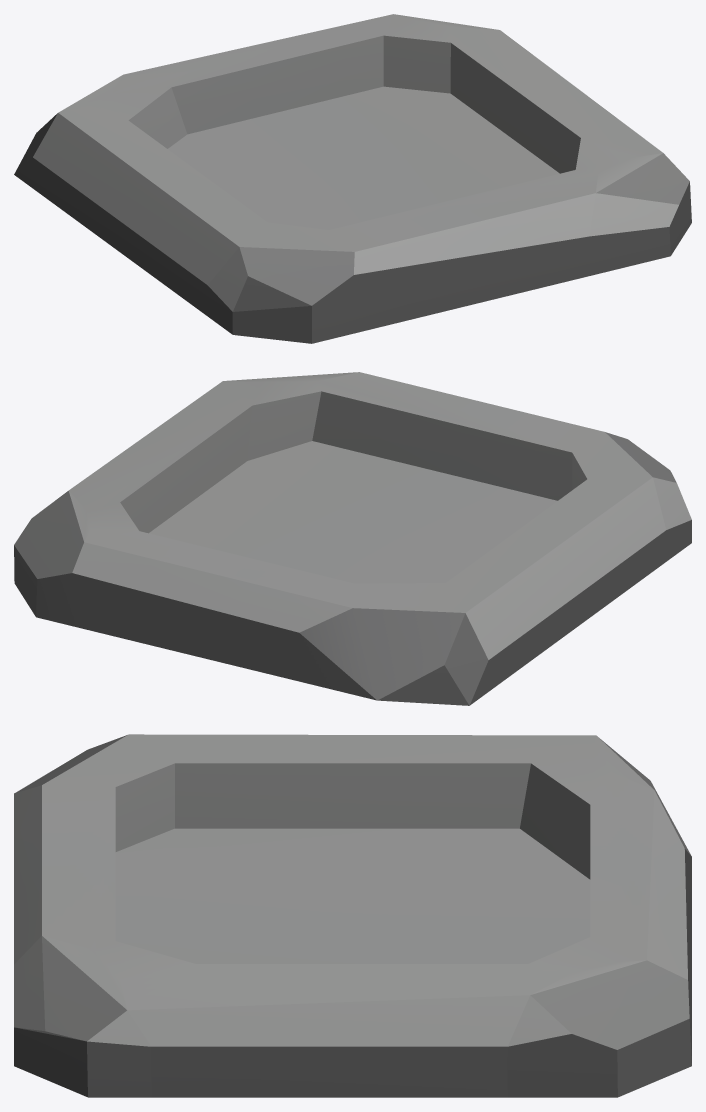
Rendered from button_area1.fbx.
The picture shows the model from 3 angles, top to bottom: view 1: azimuth 30°, elevation 25°; view 2: azimuth 150°, elevation 25°; view 3: azimuth 270°, elevation 25°; orthographic projection. The views are drawn at different scales.
Parts seen in each view (by area): view 1: button_area1; view 2: button_area1; view 3: button_area1.
Boxes of the visible parts, <box> form: button_area1: <box>14,14,691,343</box>; button_area1: <box>14,372,691,705</box>; button_area1: <box>14,734,691,1097</box>.
Size of the model in its own units: 21.45 by 3.15 by 21.4.
